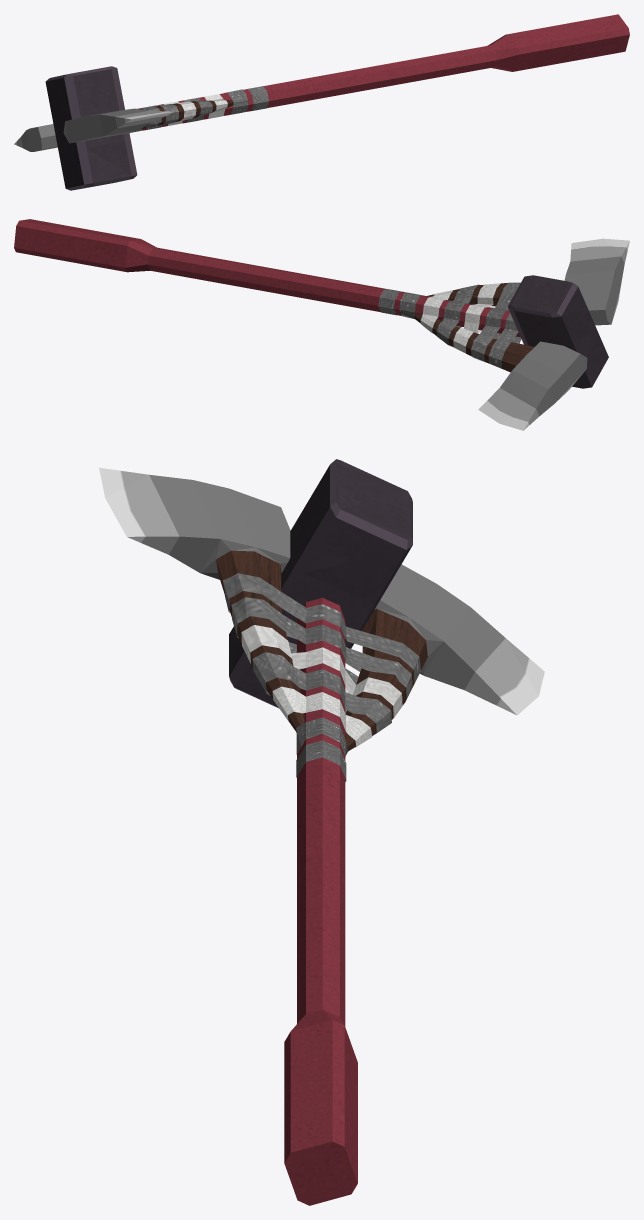
File: WorldItem_Despoiler.fbx
3 renders of one model, top to bottom at view 1: azimuth 30°, elevation 25°; view 2: azimuth 150°, elevation 25°; view 3: azimuth 270°, elevation 25°, orthographic. The views are drawn at different scales.
Parts seen in each view (by area): view 1: ZomboidDespoiler; view 2: ZomboidDespoiler; view 3: ZomboidDespoiler.
Part boxes in pixels (x1,y1,x2,y2): ZomboidDespoiler: (14, 14, 629, 190); ZomboidDespoiler: (14, 219, 629, 430); ZomboidDespoiler: (99, 459, 544, 1205).
Bounding box in the file's own units: 0.8596 × 0.1615 × 0.2914.
